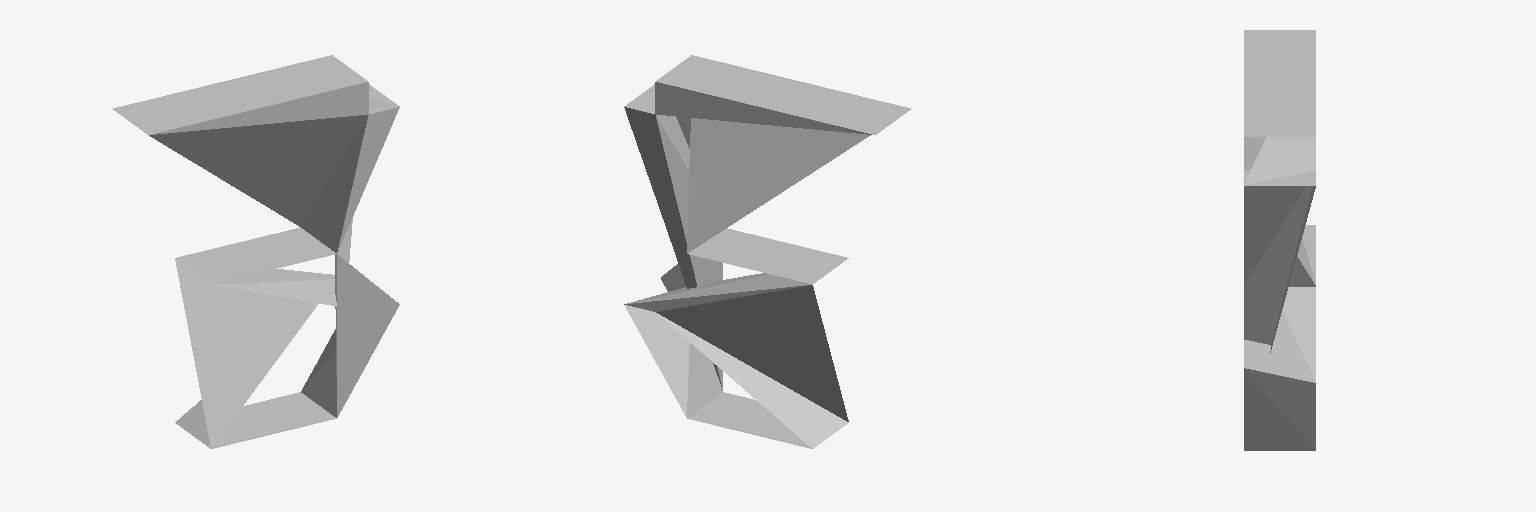
File: boost.obj
3 views of the same model, side by side, from view 1: azimuth 30°, elevation 25°; view 2: azimuth 150°, elevation 25°; view 3: azimuth 270°, elevation 25° (orthographic).
Bounding box in the file's own units: 8 × 10 × 2.